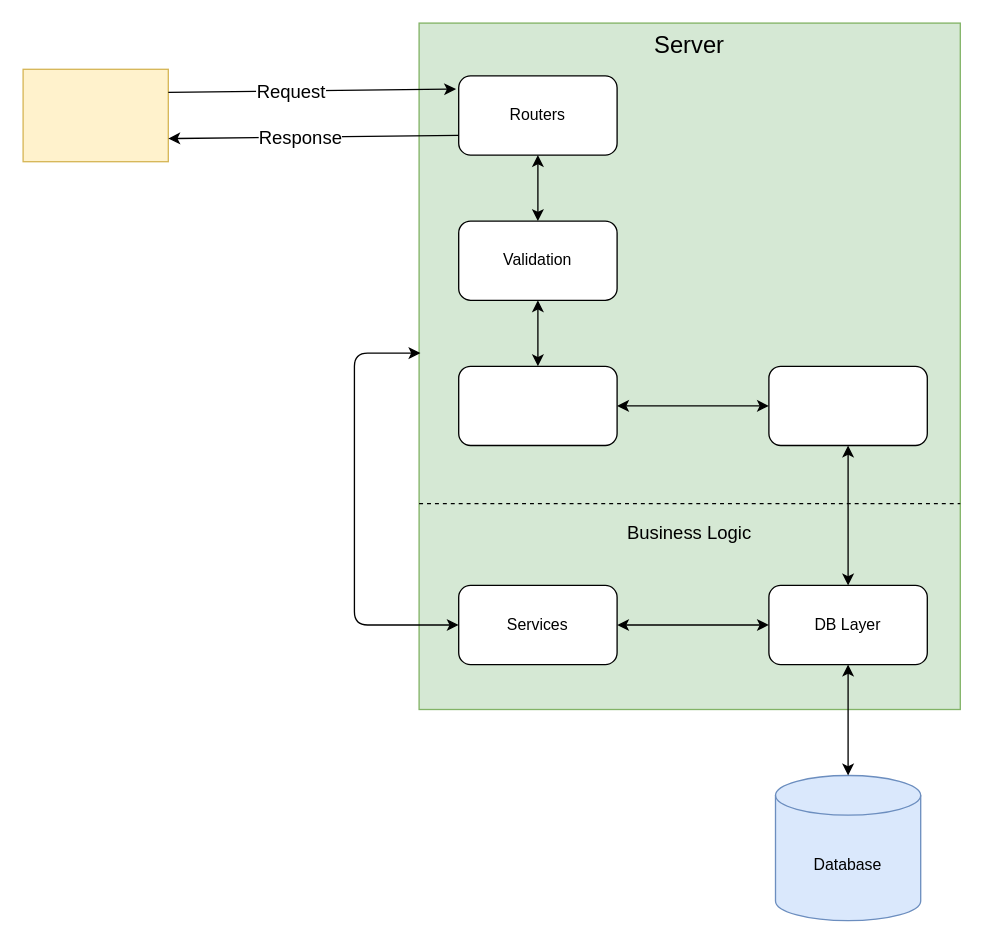
Image size: 985x944. Some labels were removed from this diagram. The centre of each missing label's shape, as x and y in pixels:
"Client" belongs at (95,115).
"Controllers" belongs at (537,405).
"Models" belongs at (847,405).
